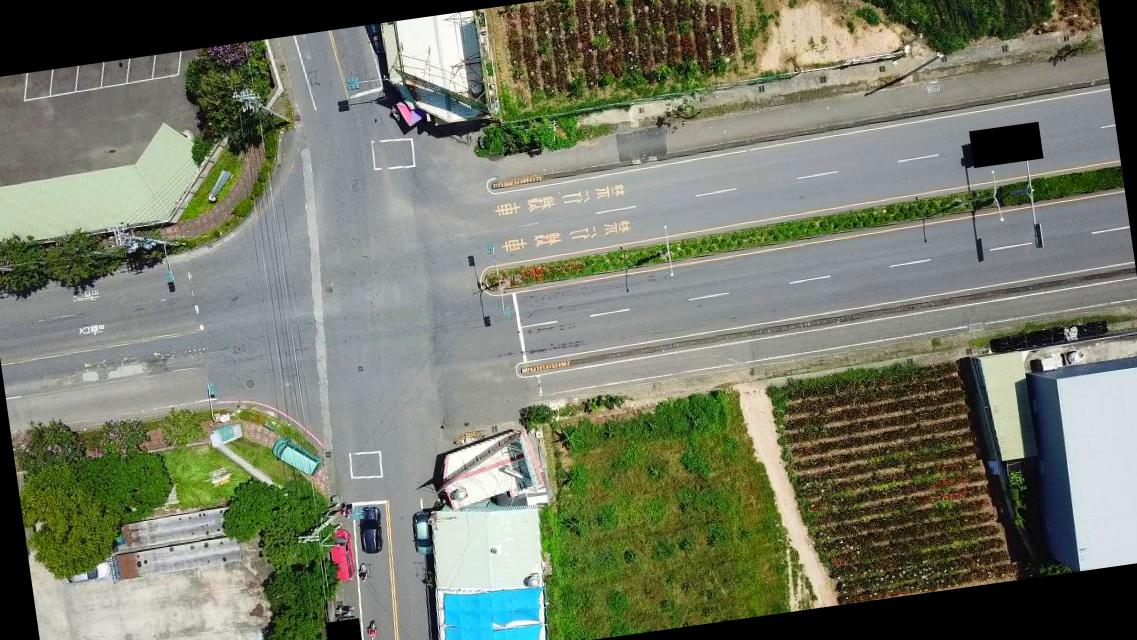vehicle: (268, 433, 324, 483), (325, 530, 356, 584), (358, 499, 388, 554), (409, 508, 438, 556), (66, 560, 110, 584), (367, 23, 385, 57)
